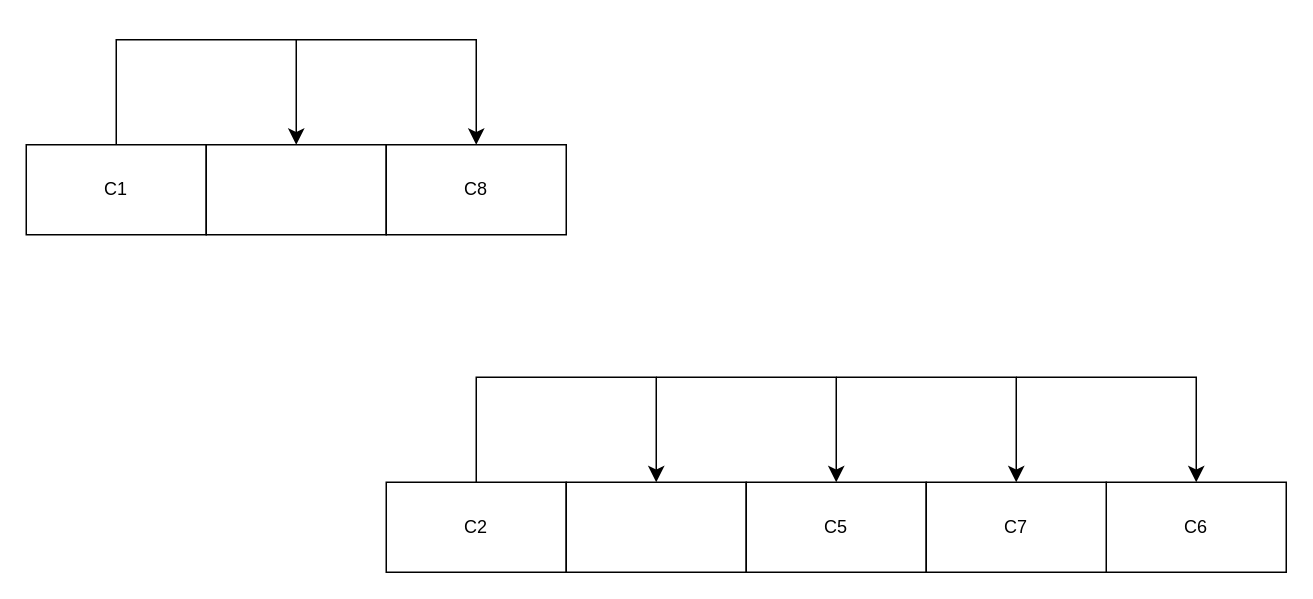
Image size: 1313x599. Some labels were removed from this diagram. The box of each missing label's shape, as (x1, y1, x2, y2) in pixels:
C3: (205, 143, 386, 235)
C4: (565, 481, 746, 572)
